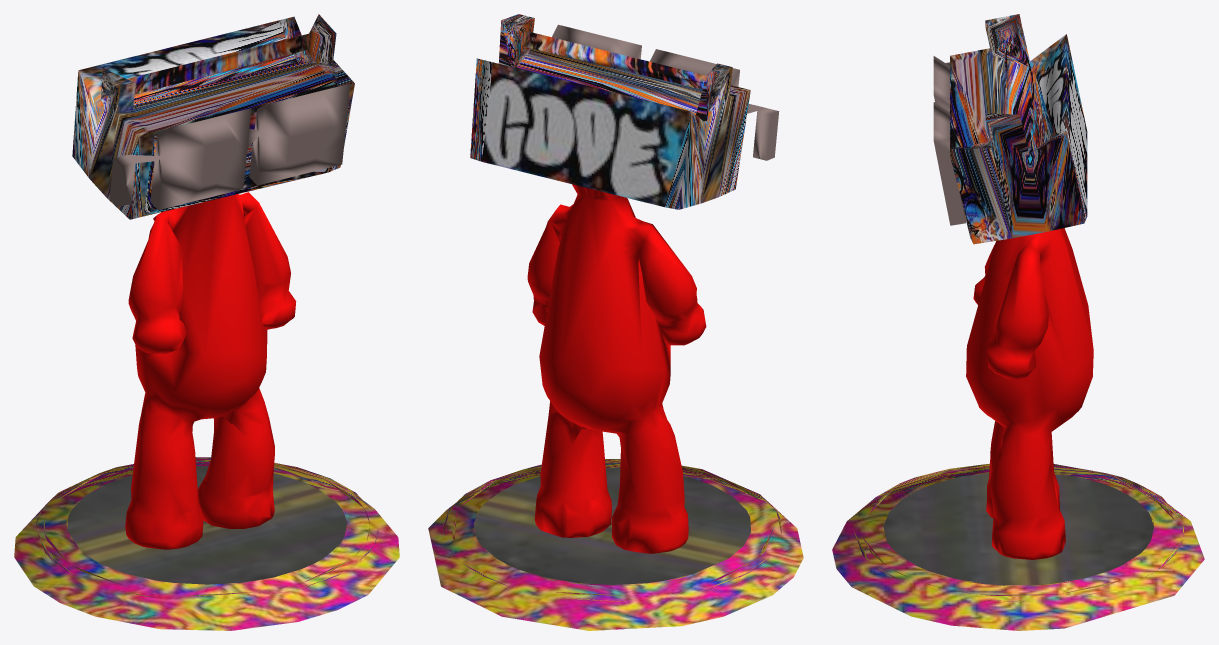
3 renders of one model, left to right at view 1: azimuth 30°, elevation 25°; view 2: azimuth 150°, elevation 25°; view 3: azimuth 270°, elevation 25°, orthographic. The views are drawn at different scales.
Bounding box in the file's own units: 1.45 × 2.09 × 1.44.
Materials: 5 (4 with a texture image).
